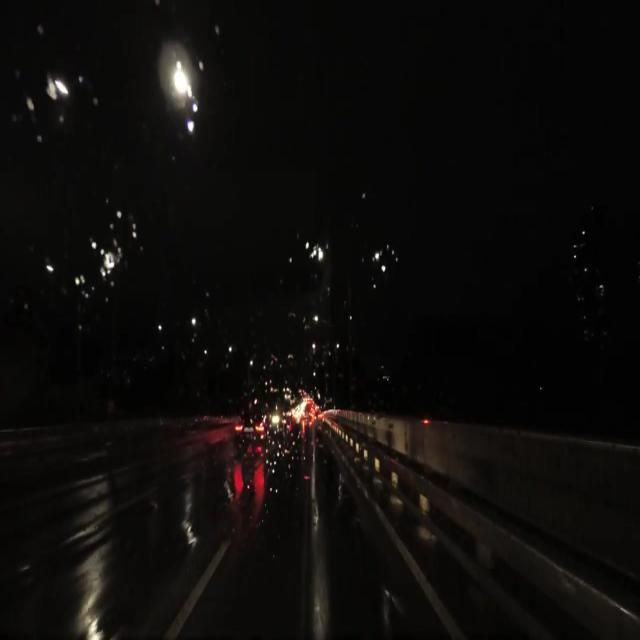Car: (234, 404, 281, 453)
